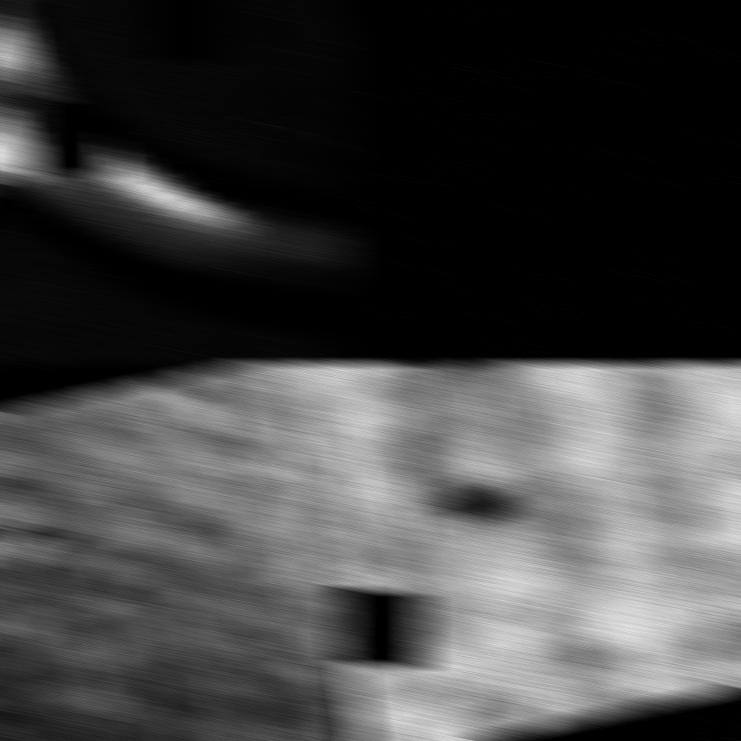AirbagV2: (340, 361, 741, 741), (0, 361, 356, 741), (0, 0, 356, 364)
